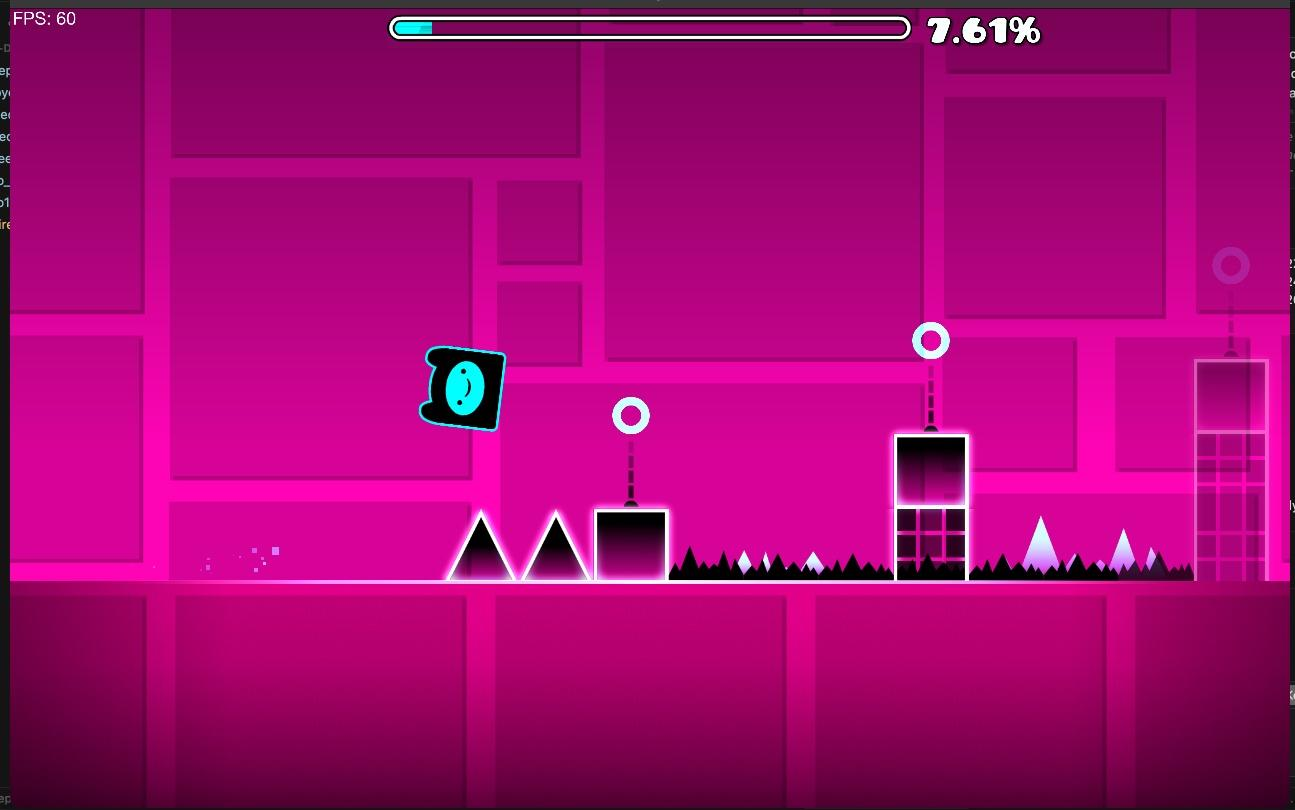block: (1199, 359, 1268, 581), (896, 437, 968, 582), (596, 509, 671, 585)
player: (420, 346, 505, 430)
spike: (971, 518, 1192, 580), (447, 512, 589, 579), (668, 548, 892, 580), (1108, 531, 1135, 571)
